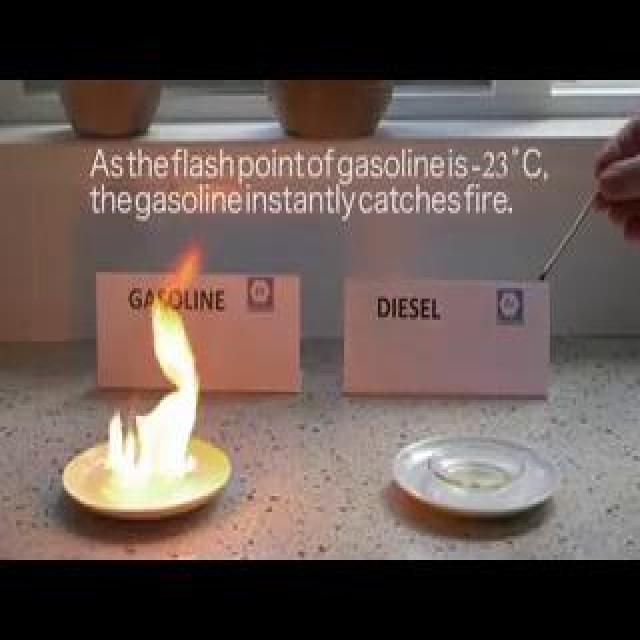Fire: (107, 296, 231, 499)
